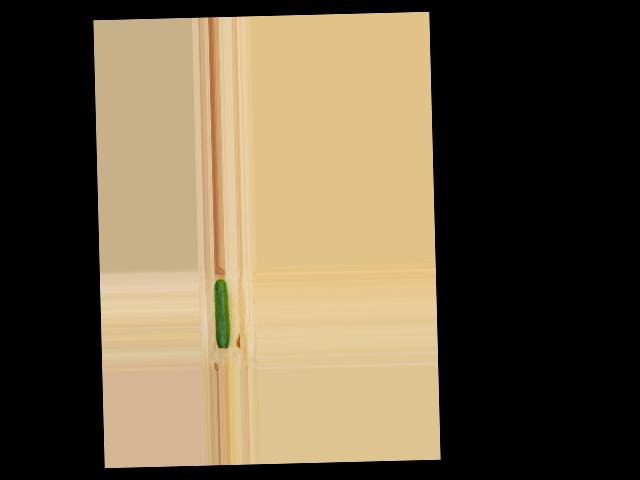cucumber: (214, 278, 229, 348)
